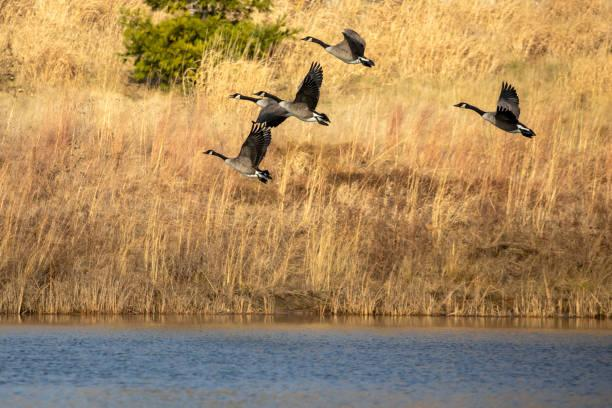Canadian-Goose: (454, 80, 534, 140), (256, 65, 334, 123), (205, 123, 274, 187), (302, 25, 378, 72), (227, 88, 256, 109)
